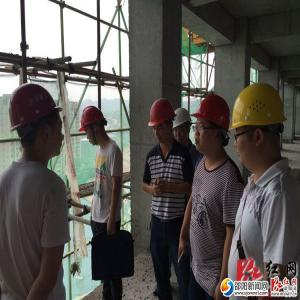red: (8, 82, 66, 167), (192, 94, 232, 153), (147, 97, 177, 143), (80, 105, 110, 149)
white: (170, 108, 194, 146)
yellow: (228, 83, 289, 170)
